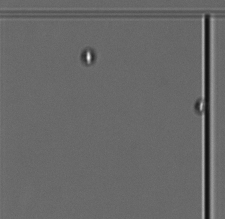Dead Cell: (193, 98, 207, 114)
Living Cell: (79, 47, 96, 67)
